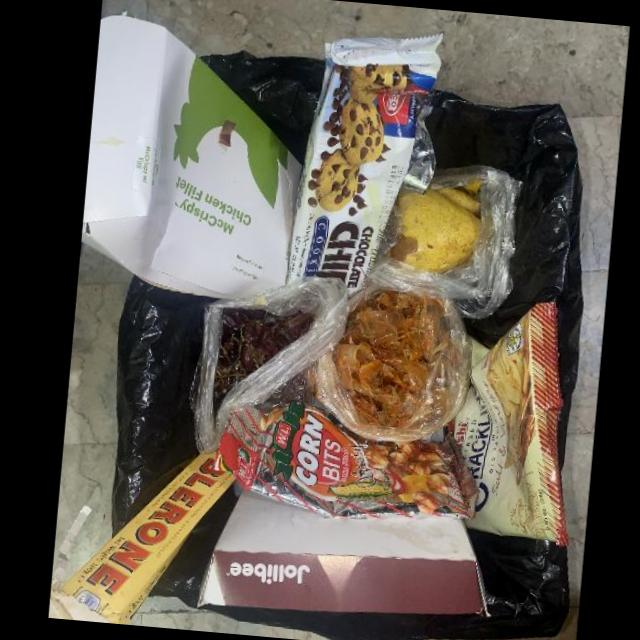bao_bi_thuc_pham: (286, 34, 444, 299), (211, 401, 479, 519), (448, 301, 571, 545)
carton: (81, 14, 302, 299), (196, 488, 489, 617), (48, 448, 237, 624)
thuc_an_thua: (333, 290, 441, 426)
tui_ni_long: (188, 275, 348, 455), (367, 164, 522, 319)
vo_trai_cay: (210, 307, 316, 429), (383, 181, 483, 274)
